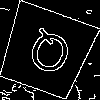Q: (21, 26, 76, 86)
